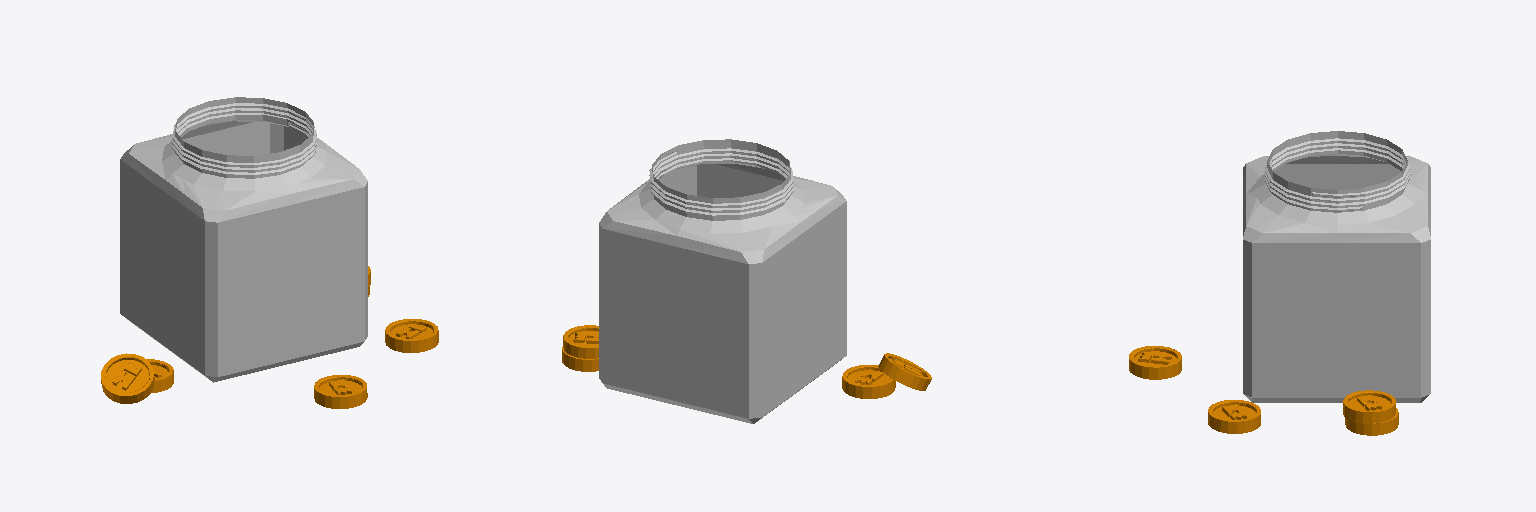
Rendered from coins.obj.
3 views of the same model, side by side, from view 1: azimuth 30°, elevation 25°; view 2: azimuth 150°, elevation 25°; view 3: azimuth 270°, elevation 25° (orthographic).
Parts seen in each view (by area): view 1: Cube.001, Cylinder.016, Cylinder.015, Cylinder.017, Cylinder.014; view 2: Cube.001, Cylinder.014, Cylinder.016, Cylinder.018; view 3: Cube.001, Cylinder.015, Cylinder.017, Cylinder.018, Cylinder.013.
Part boxes in pixels (x1,y1,x2,y2): Cube.001: (120,97,367,382); Cylinder.016: (101,353,154,403); Cylinder.015: (385,319,438,352); Cylinder.017: (314,375,367,408); Cylinder.014: (147,359,173,392); Cube.001: (599,139,846,423); Cylinder.014: (842,365,895,398); Cylinder.016: (878,353,931,390); Cylinder.018: (563,325,598,358); Cube.001: (1243,131,1430,402); Cylinder.015: (1208,400,1260,433); Cylinder.017: (1129,346,1181,379); Cylinder.018: (1343,390,1395,424); Cylinder.013: (1345,408,1398,435).
Bounding box in the file's own units: 13.5 × 8.58 × 11.31.